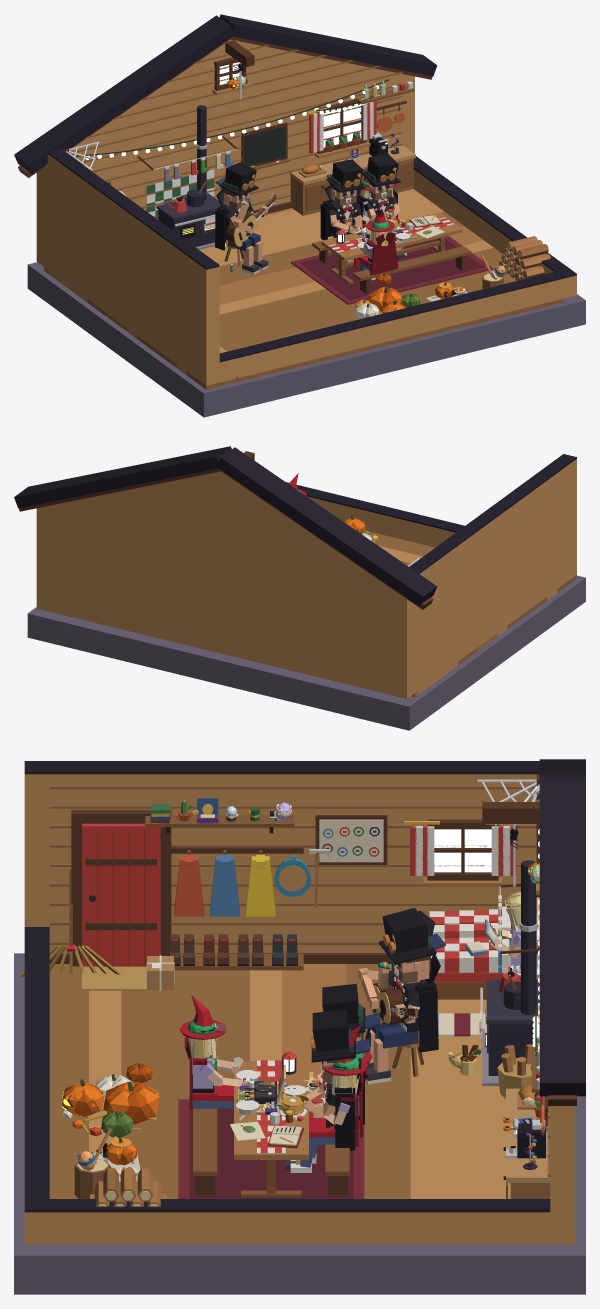
File: hut.glb
3 renders of one model, top to bottom at view 1: azimuth 30°, elevation 25°; view 2: azimuth 150°, elevation 25°; view 3: azimuth 270°, elevation 25°, orthographic. The views are drawn at different scales.
Visible parts, largest first — view 1: room, table_rug, counter, table, stove_body, woodpile, window_frame, forecast_slate, stove_tiles, hut_heap.001, curtains, window_glass (+10 smaller); view 2: room; view 3: room, door_leaf, table, table_rug, stove_body, coats, boot_row, hut_heap.001, stamp_board, counter, woodpile, curtains (+27 smaller).
Boxes of the visible parts, x1=… form: room: x1=14, y1=14, x2=585, y2=417; table_rug: x1=290, y1=236, x2=493, y2=304; counter: x1=290, y1=81, x2=415, y2=215; table: x1=312, y1=212, x2=471, y2=293; stove_body: x1=156, y1=105, x2=221, y2=249; woodpile: x1=480, y1=236, x2=550, y2=289; window_frame: x1=212, y1=57, x2=370, y2=158; forecast_slate: x1=244, y1=126, x2=285, y2=165; stove_tiles: x1=146, y1=169, x2=214, y2=219; hut_heap.001: x1=354, y1=273, x2=420, y2=319; curtains: x1=307, y1=94, x2=380, y2=153; window_glass: x1=219, y1=62, x2=361, y2=147; room: x1=14, y1=446, x2=585, y2=730; room: x1=14, y1=759, x2=585, y2=1294; door_leaf: x1=71, y1=810, x2=171, y2=990; table: x1=193, y1=1060, x2=349, y2=1197; table_rug: x1=178, y1=1099, x2=364, y2=1198; stove_body: x1=479, y1=860, x2=539, y2=1085; coats: x1=171, y1=847, x2=303, y2=916; boot_row: x1=169, y1=934, x2=303, y2=970; hut_heap.001: x1=62, y1=1063, x2=159, y2=1138; stamp_board: x1=315, y1=815, x2=387, y2=864; counter: x1=503, y1=1036, x2=550, y2=1198; woodpile: x1=74, y1=1128, x2=169, y2=1206; curtains: x1=404, y1=821, x2=543, y2=1122.
Size of the model in its own units: 10.71 by 5.68 by 8.
